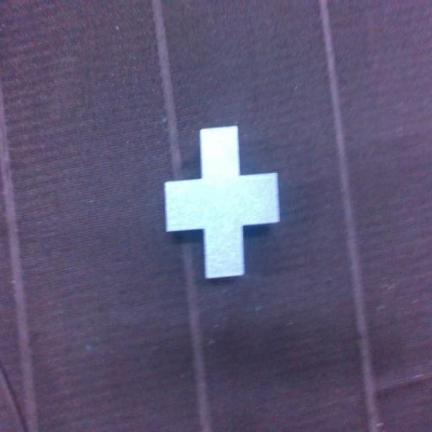cross: (165, 127, 279, 278)
